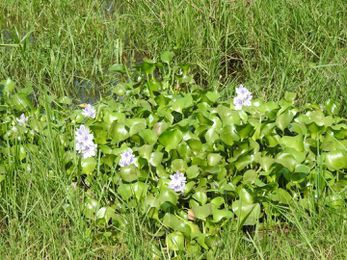water_hyacinth: (58, 93, 347, 196)
